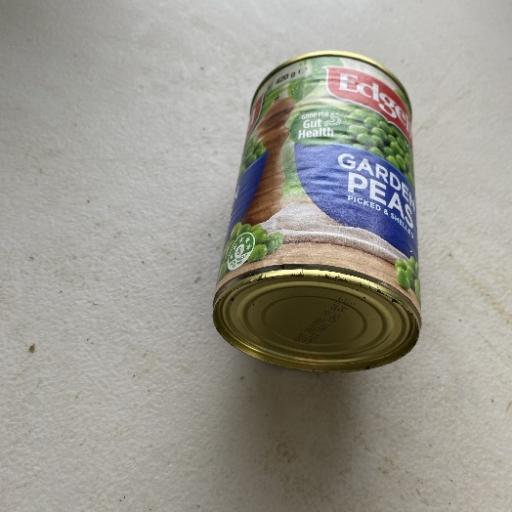Metal: (210, 49, 423, 374)
